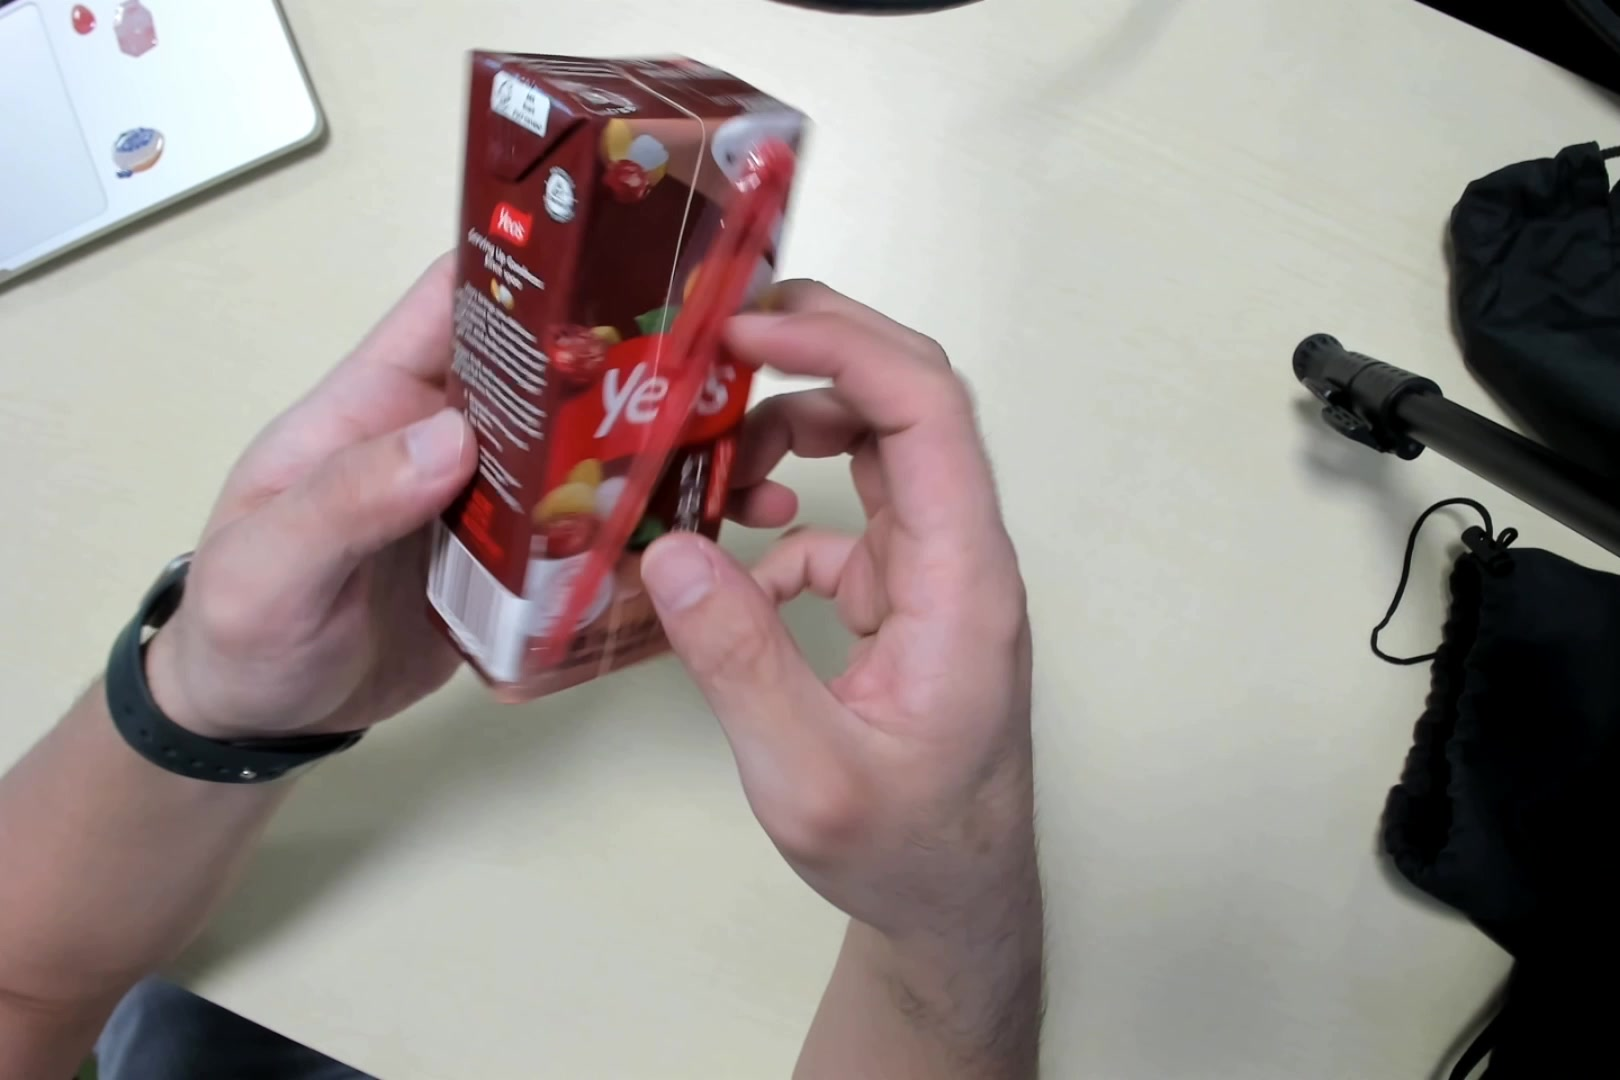TeaDrink_200-299g_Halal_Healthy: (425, 41, 810, 714)
